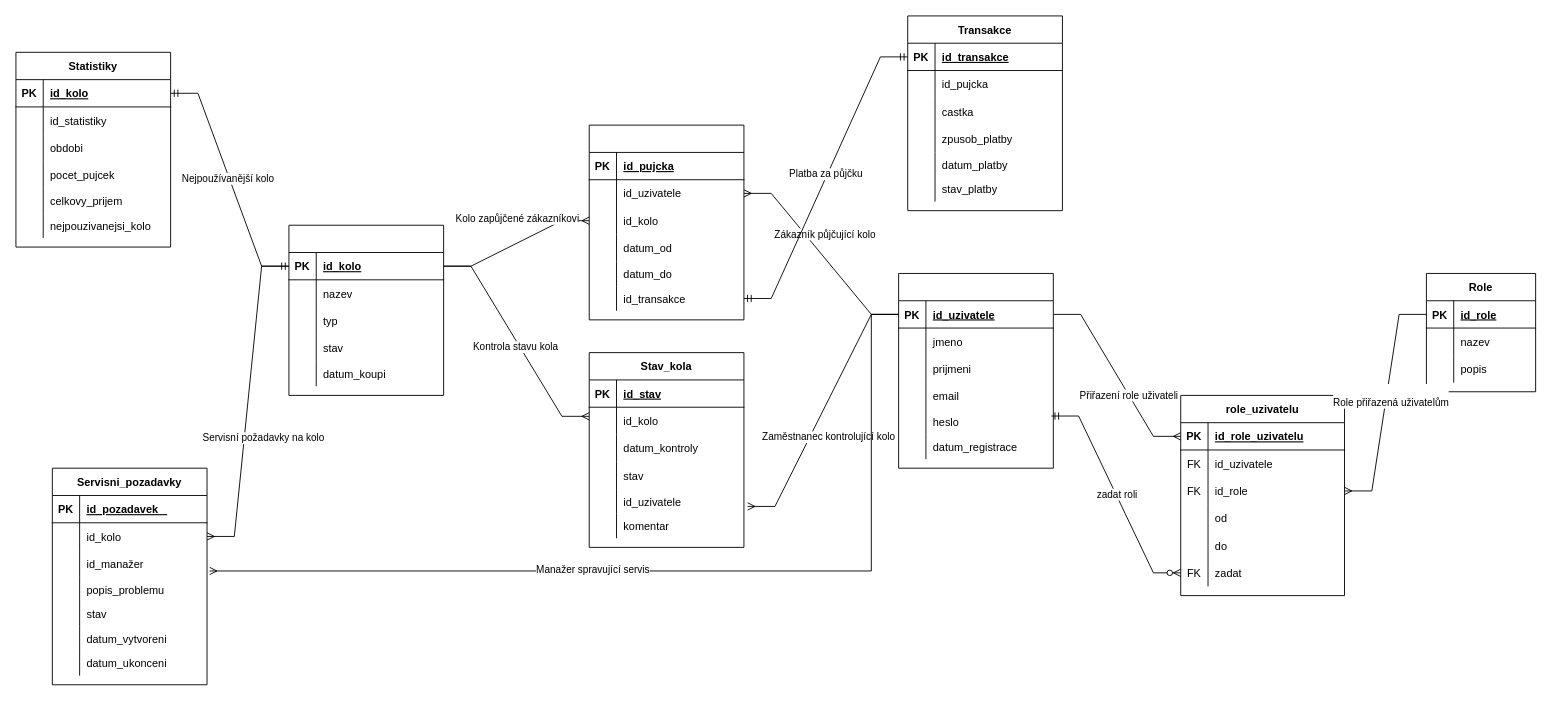
The diagram is 1552 pixels wide and 701 high, and some of its shapes have lost their labels. Each missing label, with the box of its shape:
Kola: (288, 224, 444, 395)
Pujcky: (588, 124, 744, 320)
Uživatele: (898, 273, 1053, 468)
